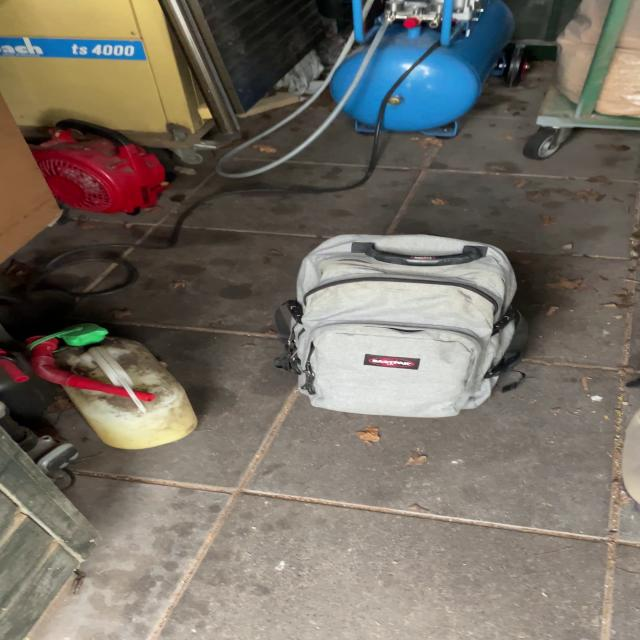backpack: (262, 225, 538, 423)
